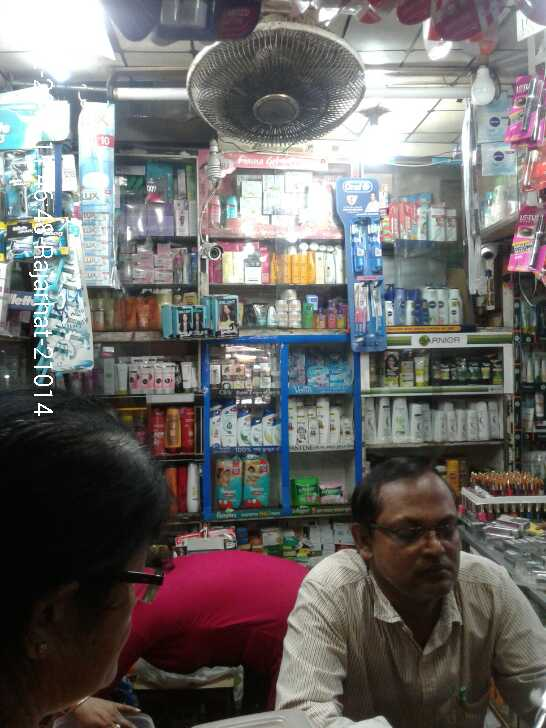gillete: (6, 149, 38, 215), (34, 216, 71, 255), (8, 219, 34, 255)
venus: (30, 256, 79, 384), (309, 350, 329, 388), (329, 352, 350, 388), (289, 350, 309, 386)
